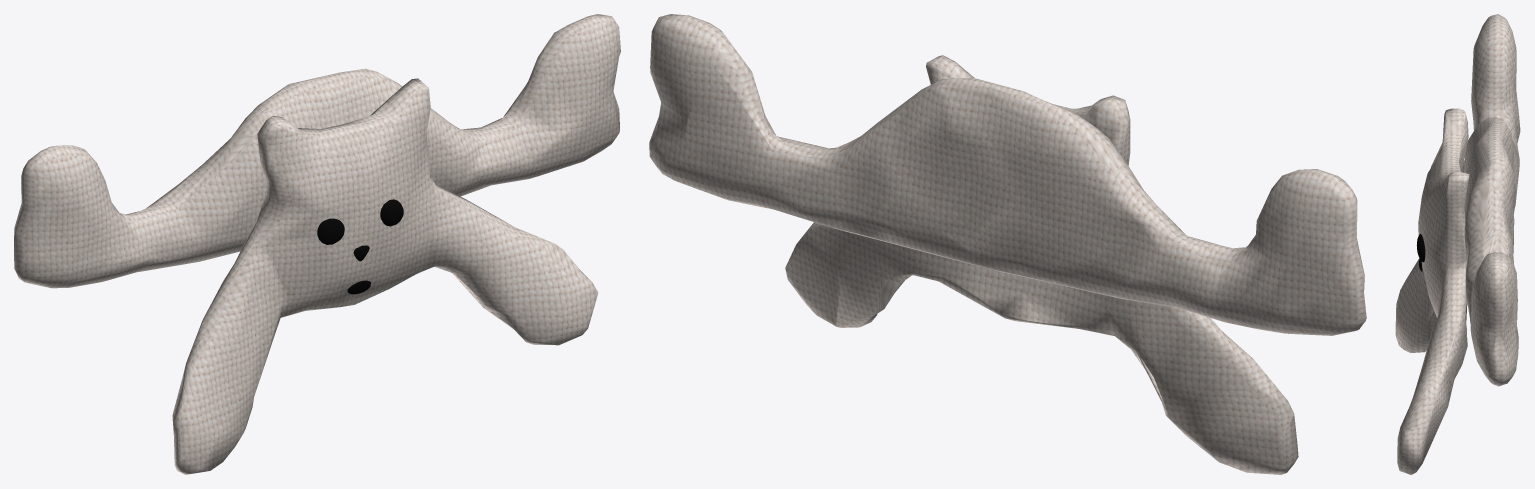
Rendered from Teddy 2.FBX.
3 views of the same model, side by side, from view 1: azimuth 30°, elevation 25°; view 2: azimuth 150°, elevation 25°; view 3: azimuth 270°, elevation 25° (orthographic). The views are drawn at different scales.
Visible parts, largest first — view 1: Teddy 2; view 2: Teddy 2; view 3: Teddy 2.
Part boxes in pixels (x1,y1,x2,y2): Teddy 2: (14, 14, 620, 474); Teddy 2: (649, 14, 1366, 474); Teddy 2: (1395, 14, 1520, 474).
Bounding box in the file's own units: 725 × 143 × 365.
2 materials, 1 textured.
